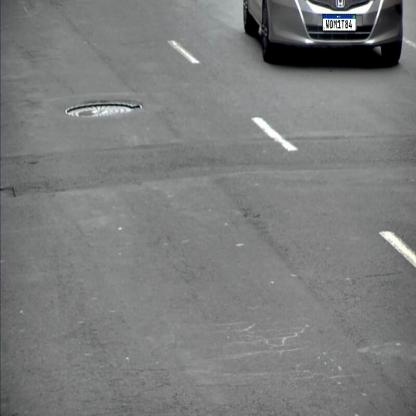PlacaM: (323, 14, 356, 31)
